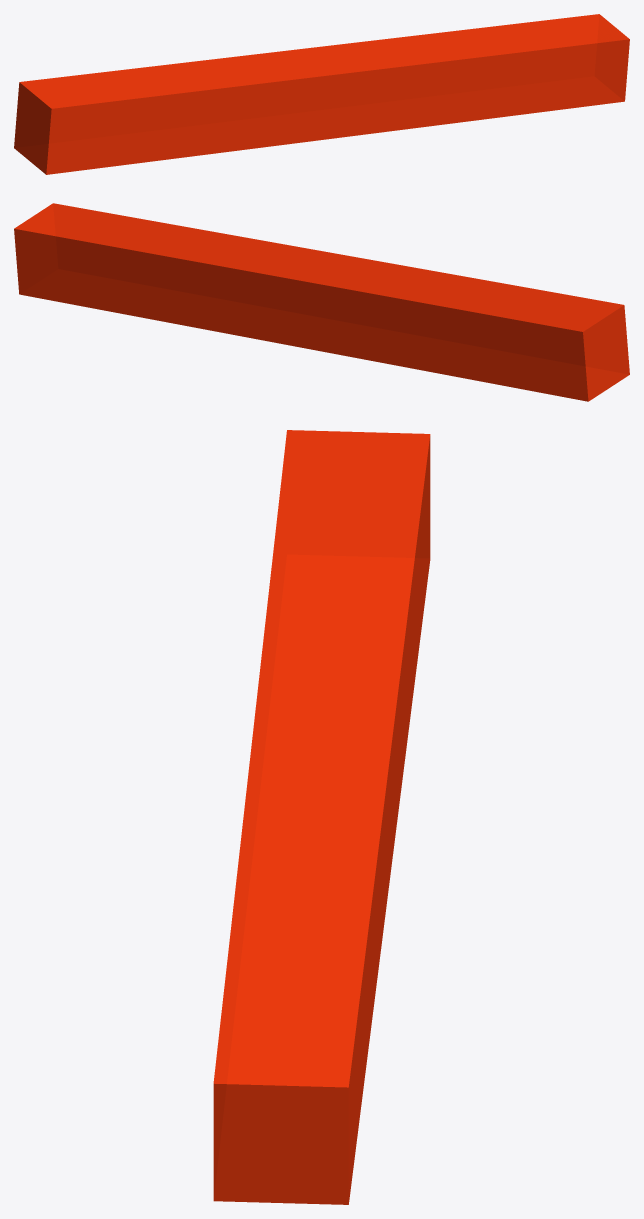
The model's file is Event_421364160_EErechit_3.fbx.
The picture shows the model from 3 angles, top to bottom: view 1: azimuth 30°, elevation 25°; view 2: azimuth 150°, elevation 25°; view 3: azimuth 270°, elevation 25°; orthographic projection. The views are drawn at different scales.
Parts seen in each view (by area): view 1: Model; view 2: Model; view 3: Model.
Boxes of the visible parts, x1,y1,x2,y2 form: Model: [14, 14, 629, 174]; Model: [14, 203, 629, 401]; Model: [213, 430, 430, 1204].
Size of the model in its own units: 0.7036 by 0.136 by 0.1162.
